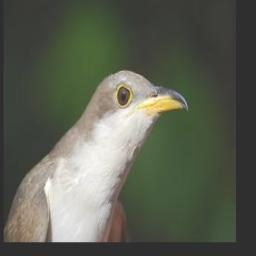Cuckoo: (4, 68, 188, 240)
